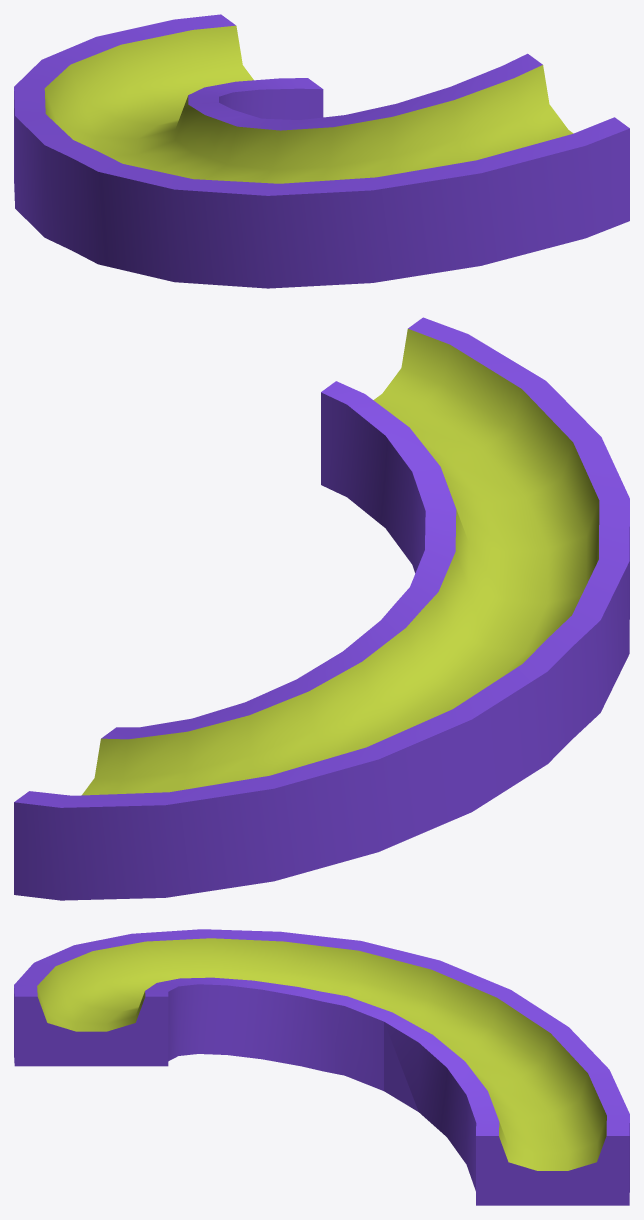
The model's file is helix_half_left-col.dae.
3 views of the same model, one above another, from view 1: azimuth 30°, elevation 25°; view 2: azimuth 150°, elevation 25°; view 3: azimuth 270°, elevation 25° (orthographic). The views are drawn at different scales.
Visible parts, largest first — view 1: helix_half_left-col; view 2: helix_half_left-col; view 3: helix_half_left-col.
Part boxes in pixels (x1=…): helix_half_left-col: x1=14, y1=14, x2=629, y2=288; helix_half_left-col: x1=14, y1=317, x2=629, y2=900; helix_half_left-col: x1=14, y1=929, x2=629, y2=1205.
Bounding box in the file's own units: 2 × 4.01 × 1.5.
